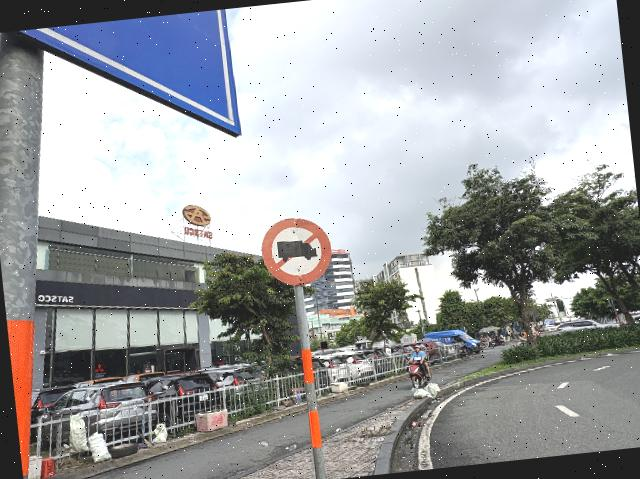cam-xe-tai: (258, 214, 334, 289)
